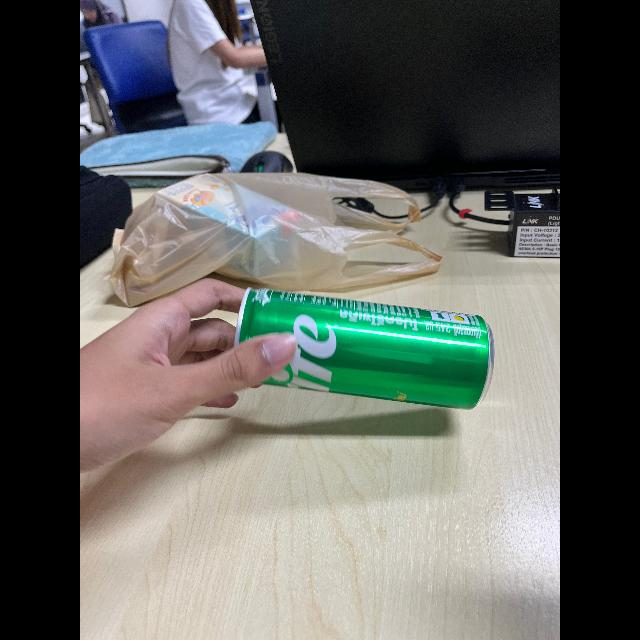can: (222, 293, 500, 412)
